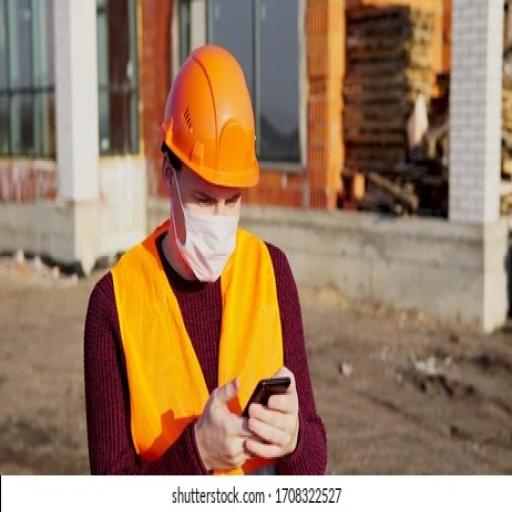mask: (178, 198, 246, 282)
